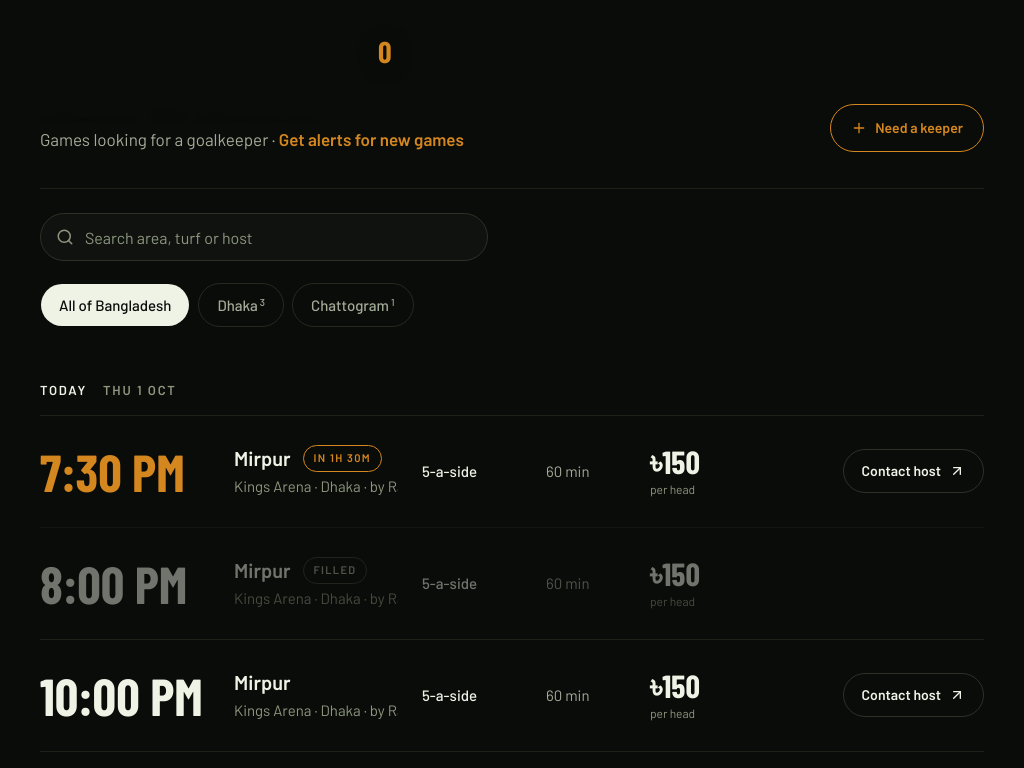
Test case: Feed › filters by area chip
Click the button "Chattogram1" at (353, 305), box left=292, top=283, right=414, bottom=327
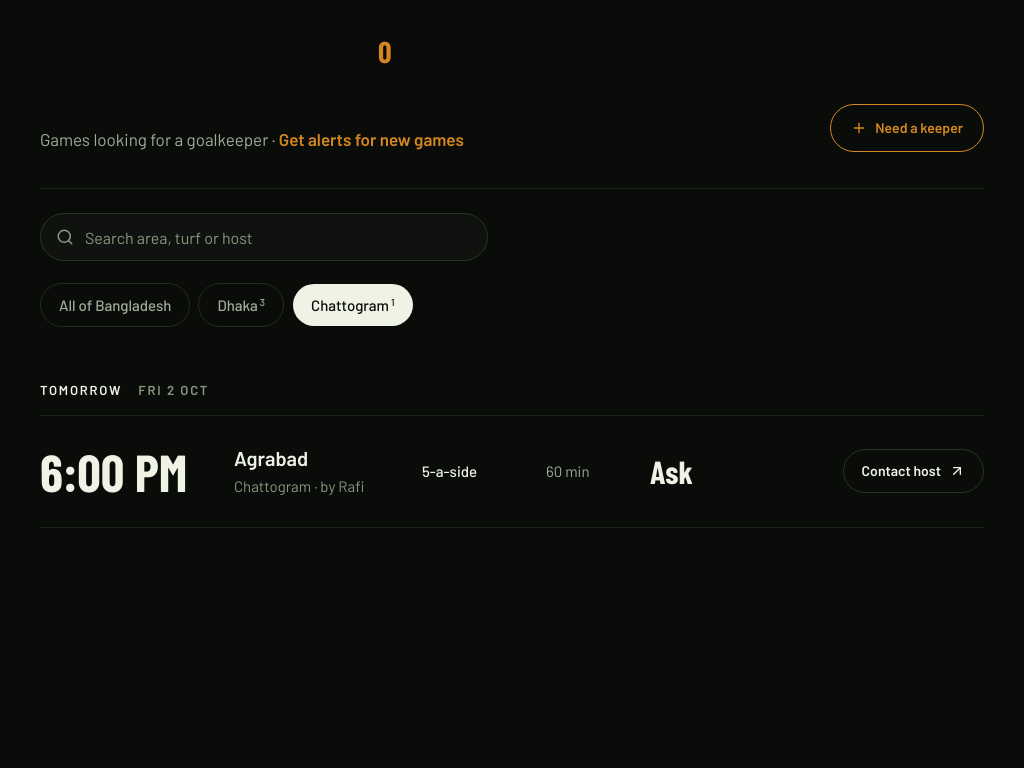
Expected: the text "6:00 PM" is shown, left=40, top=445, right=210, bottom=497
Result: the text "10:00 PM" is gone
Click the button "All of Bangladesh" at (115, 305), box left=40, top=283, right=190, bottom=327
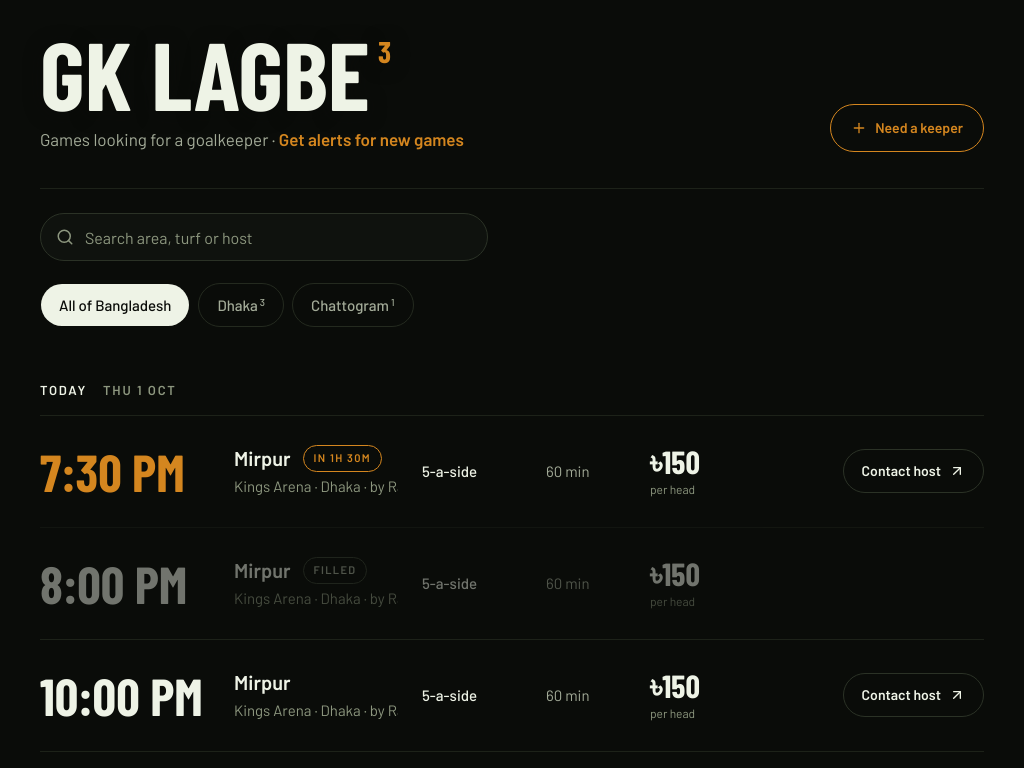
Result: the text "10:00 PM" is shown at left=40, top=669, right=210, bottom=721
